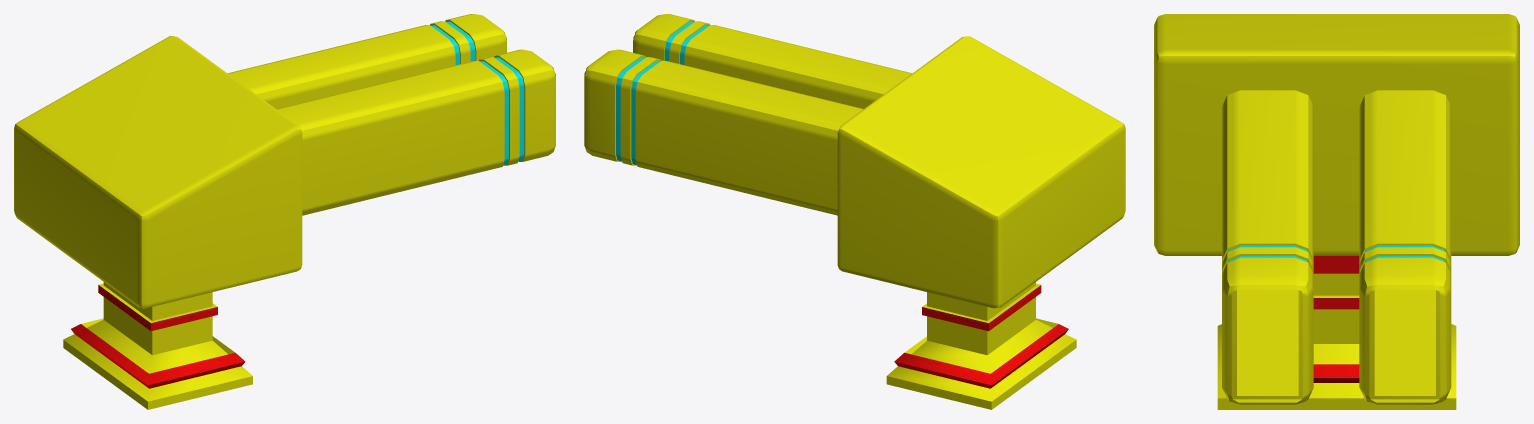
Rendered from arma3.fbx.
3 views of the same model, side by side, from view 1: azimuth 30°, elevation 25°; view 2: azimuth 150°, elevation 25°; view 3: azimuth 270°, elevation 25° (orthographic). The views are drawn at different scales.
Visible parts, largest first — view 1: pCube5; view 2: pCube5; view 3: pCube5.
Boxes of the visible parts, bbox=[...] form: pCube5: bbox=[14, 14, 555, 409]; pCube5: bbox=[584, 14, 1125, 409]; pCube5: bbox=[1154, 14, 1519, 409].
Bounding box in the file's own units: 31.68 × 18.25 × 16.08.
